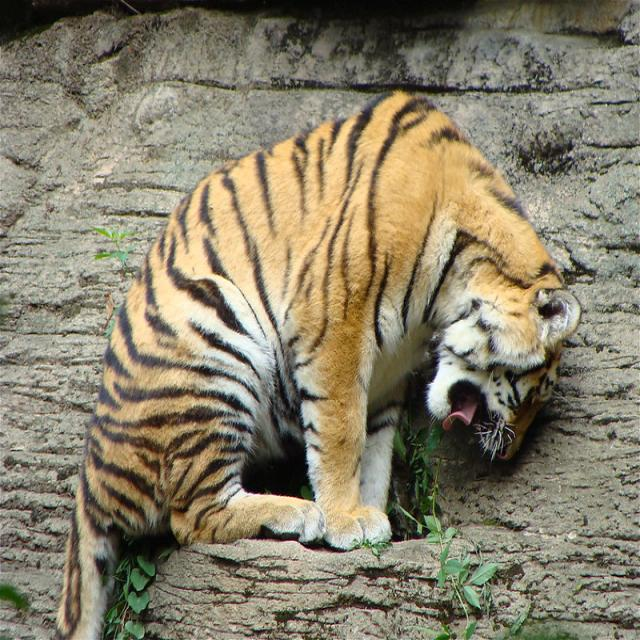Tiger: (48, 73, 590, 611)
